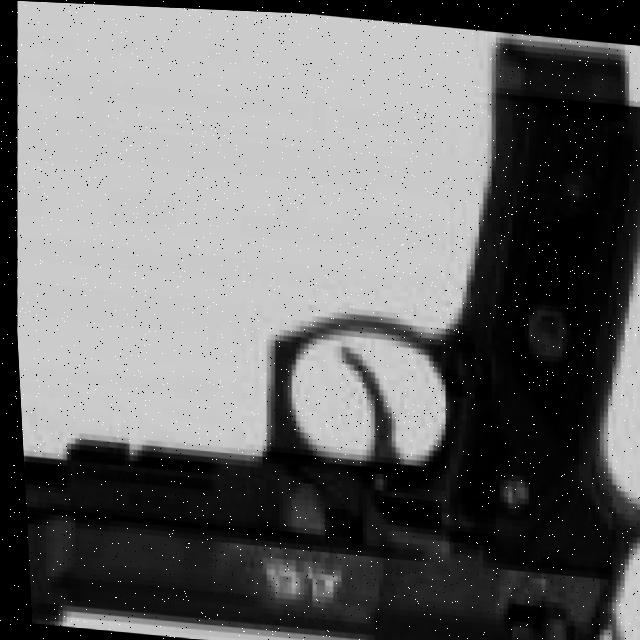pistol: (2, 51, 640, 640)
